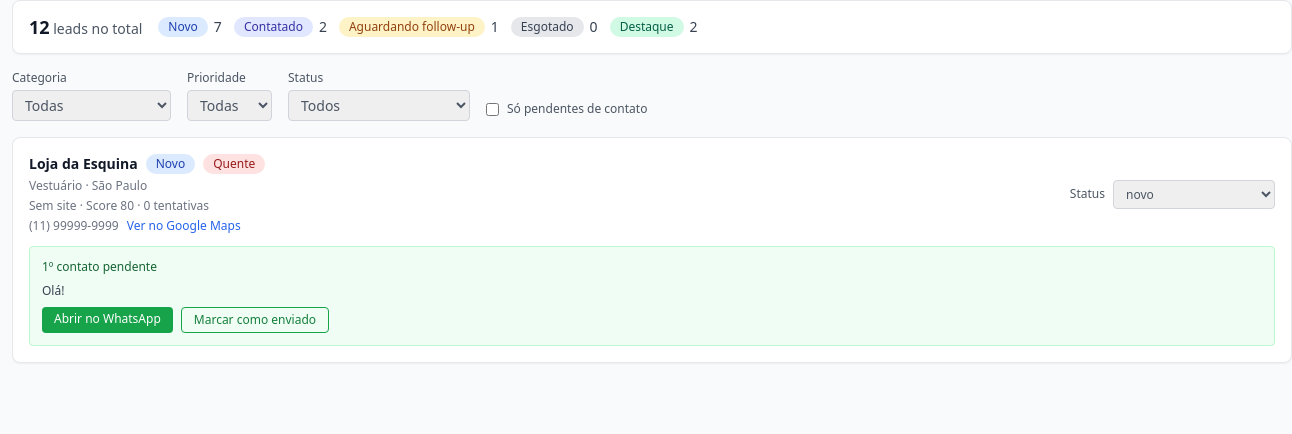
Scenario: LeadsList › exibe erro quando o registro do envio falha
Expected: the heading "Loja da Esquina" is shown, x1=29 y1=154 x2=138 y2=174
Step 1. Click the button "Marcar como enviado" → (255, 320), box x1=181 y1=307 x2=329 y2=333
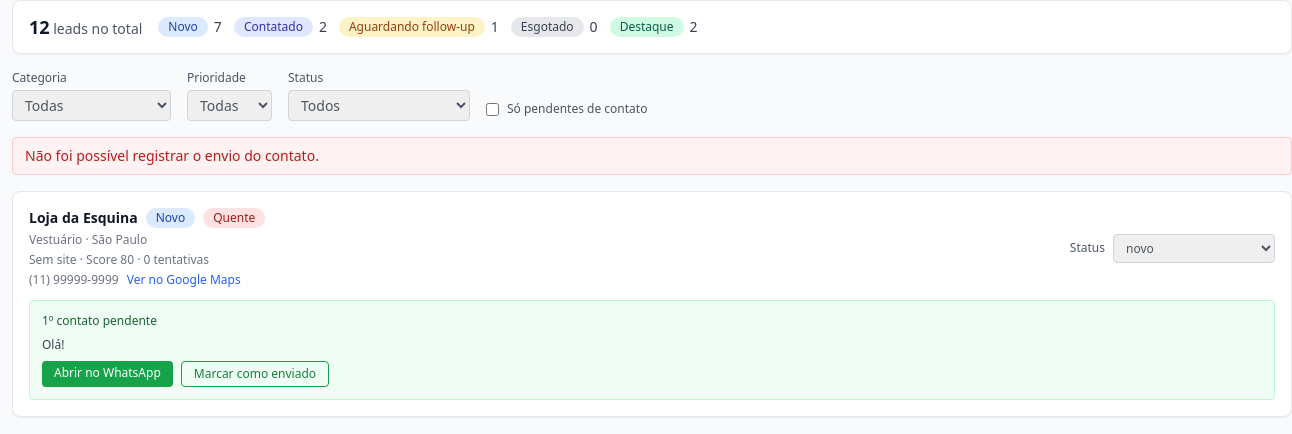
Expected: the message reads "Não foi possível registrar o envio do contato.", x1=25 y1=146 x2=319 y2=165
